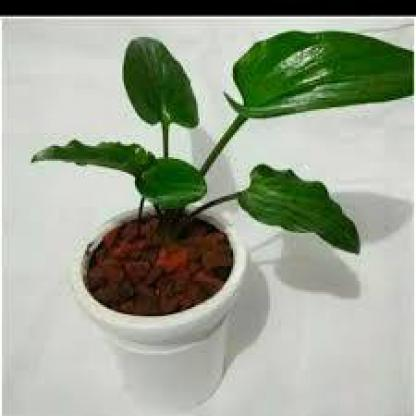Melati: (162, 199, 336, 373), (40, 184, 180, 339), (147, 112, 323, 214)
